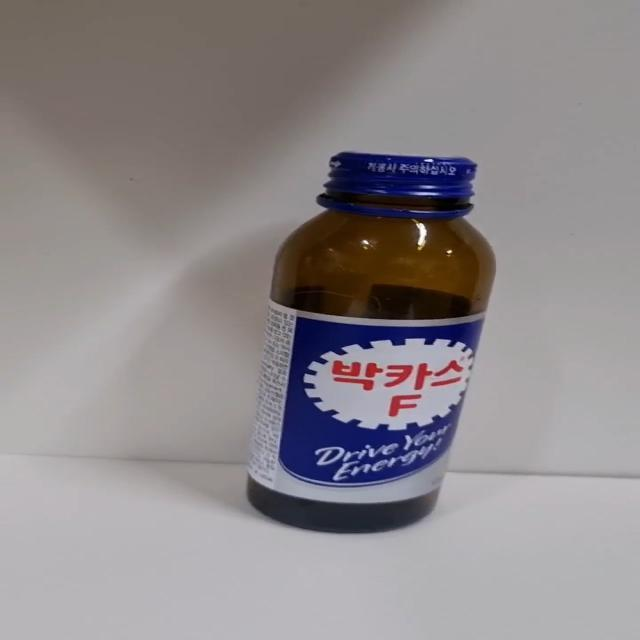Glass: (245, 152, 497, 536)
